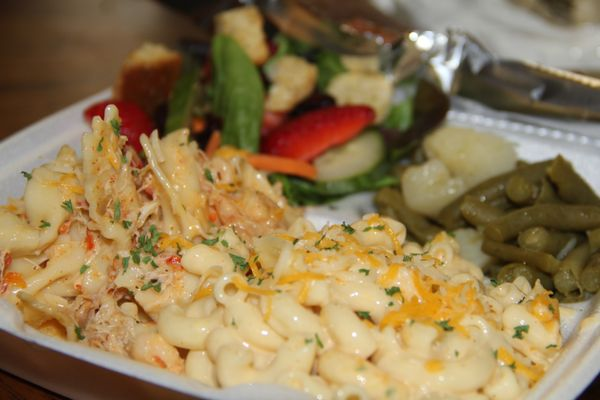curry: (198, 33, 267, 152)
sushi: (2, 7, 599, 396)
